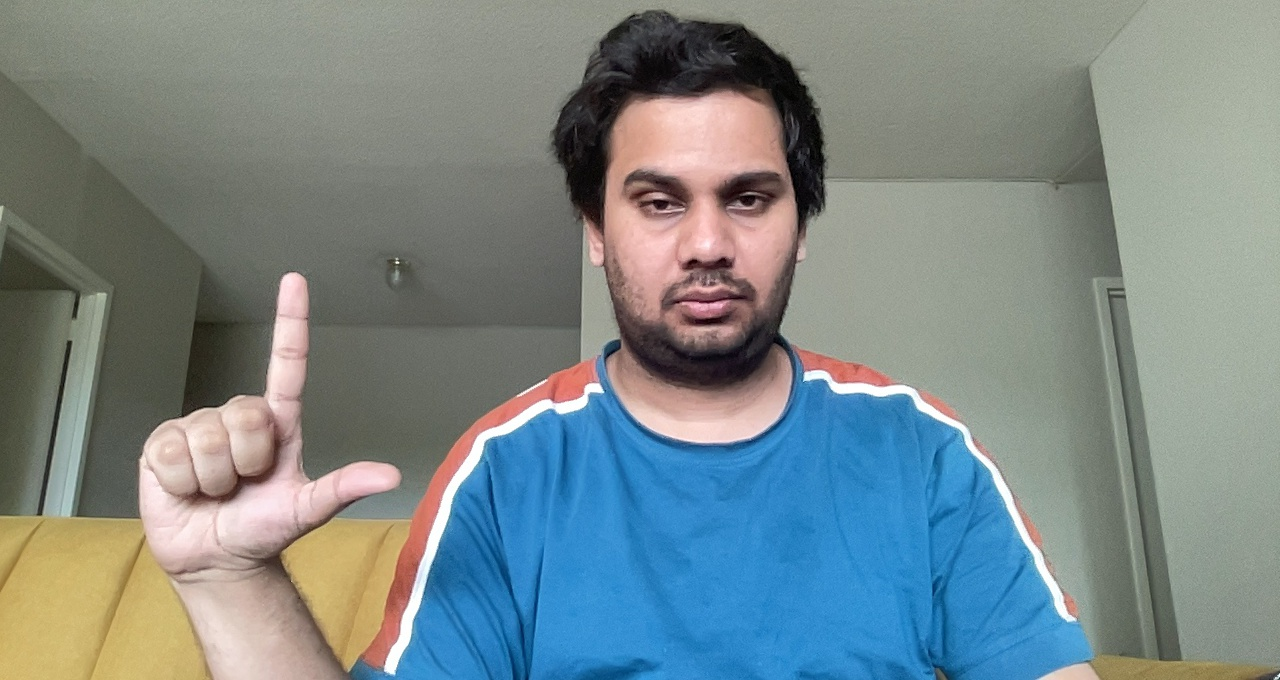L: (127, 263, 411, 586)
